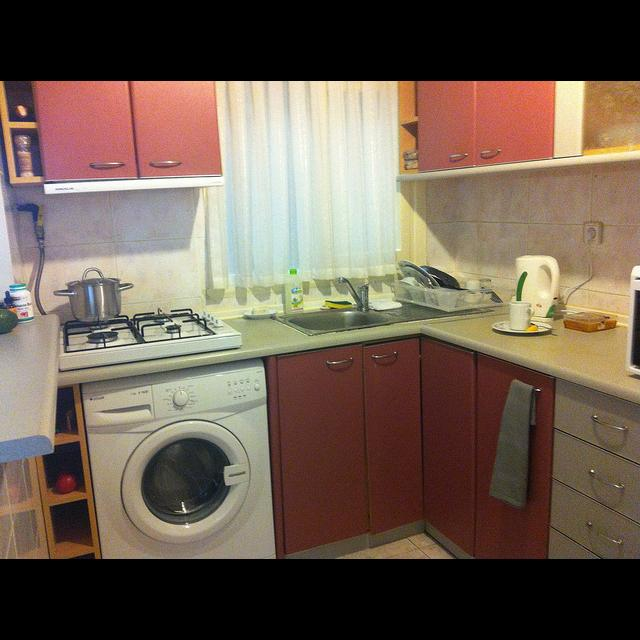Microwave: (625, 266, 640, 376)
